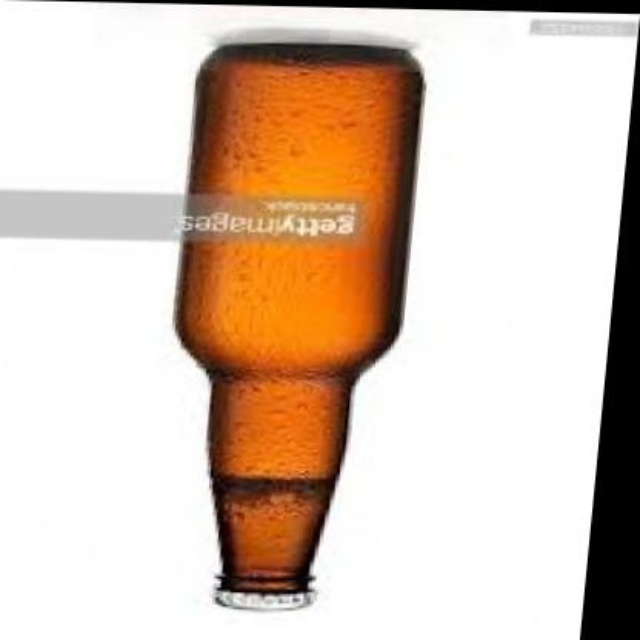trash: (177, 43, 422, 608)
